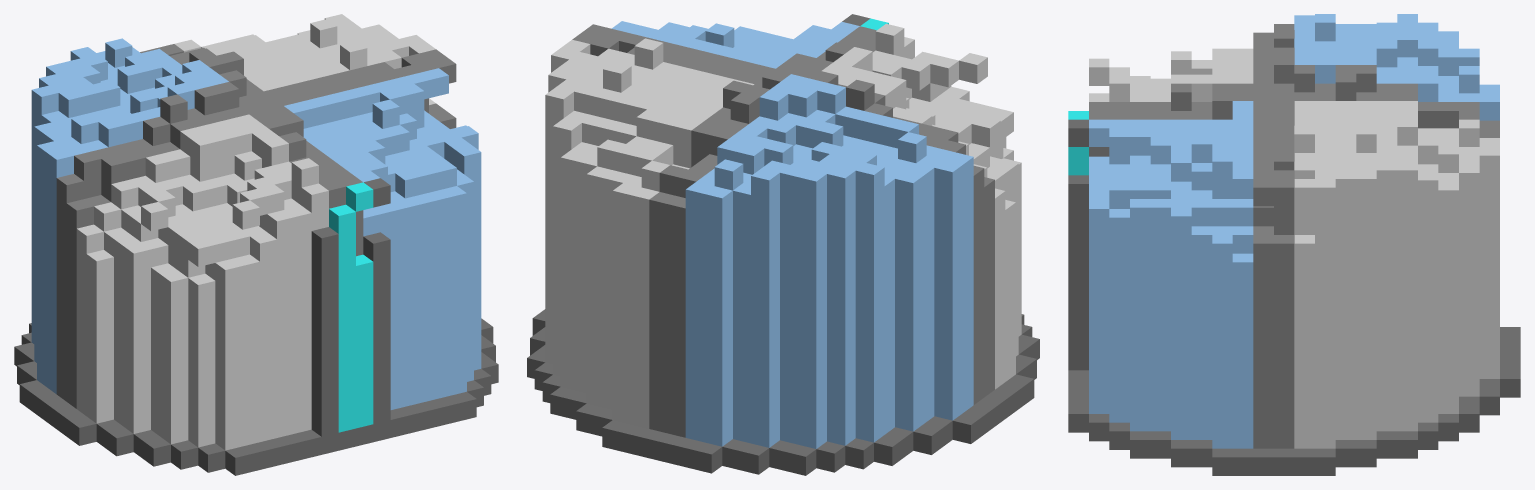
File: PowerModulejunk1.obj
3 renders of one model, left to right at view 1: azimuth 30°, elevation 25°; view 2: azimuth 150°, elevation 25°; view 3: azimuth 270°, elevation 25°, orthographic. The views are drawn at different scales.
Size of the model in its own units: 24 by 16 by 22.
Materials: 1 (1 with a texture image).
